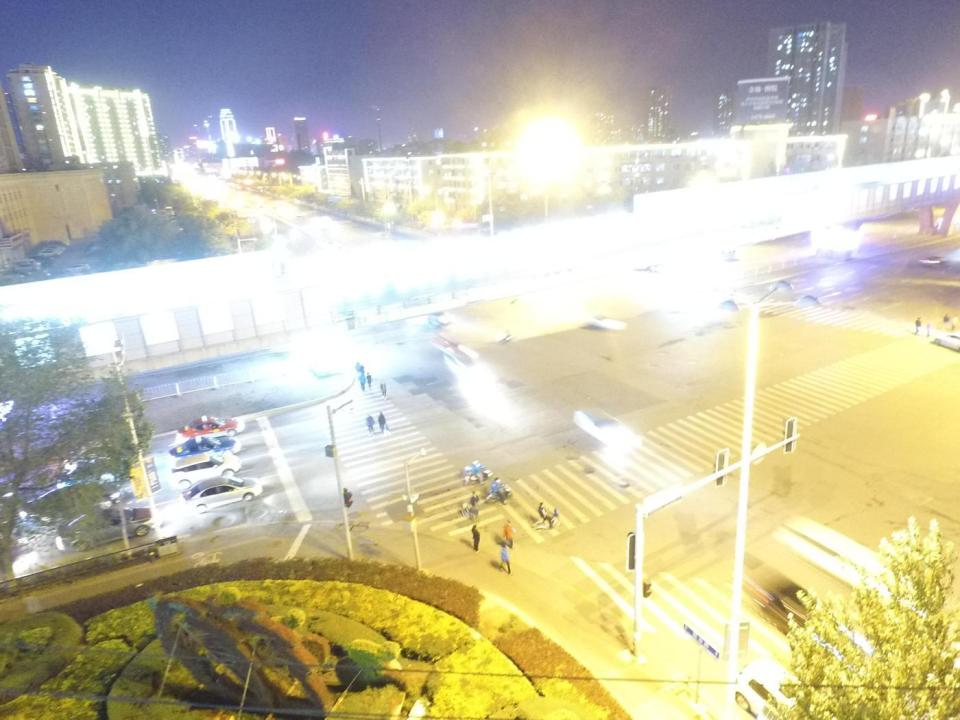car: (733, 657, 830, 720), (17, 481, 135, 528), (760, 585, 838, 648), (56, 507, 154, 553), (15, 459, 130, 498), (573, 409, 643, 454), (180, 476, 262, 513), (170, 452, 241, 490), (169, 436, 240, 464), (174, 415, 244, 443), (587, 314, 627, 332), (934, 332, 960, 352), (920, 256, 949, 269), (428, 312, 452, 326), (62, 264, 90, 272), (37, 250, 58, 257), (24, 259, 40, 268)
van: (737, 655, 833, 720), (443, 346, 481, 385)
